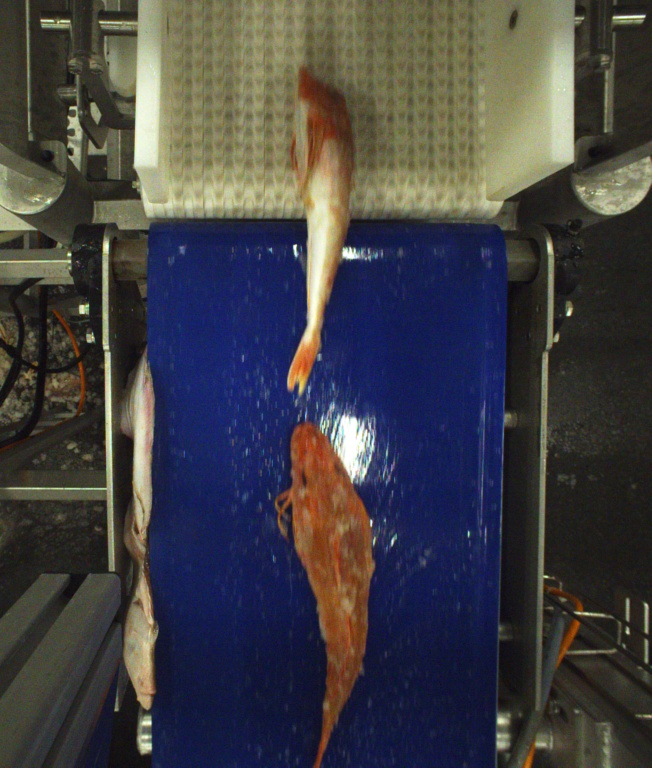GUU: (269, 419, 378, 768)
